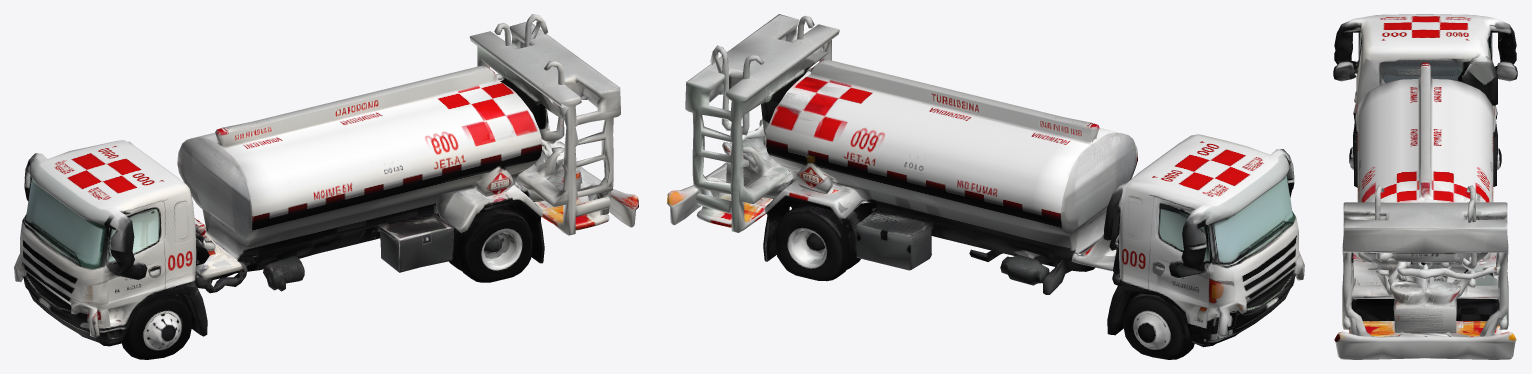
The model's file is Meshy_AI_Jet_A1_Aviation_Fuel__0615234341_texture.obj.
3 renders of one model, left to right at view 1: azimuth 30°, elevation 25°; view 2: azimuth 150°, elevation 25°; view 3: azimuth 270°, elevation 25°, orthographic. The views are drawn at different scales.
Visible parts, largest first — view 1: Meshy_AI_Jet_A1_Aviation_Fuel__0615234341_texture; view 2: Meshy_AI_Jet_A1_Aviation_Fuel__0615234341_texture; view 3: Meshy_AI_Jet_A1_Aviation_Fuel__0615234341_texture.
Boxes of the visible parts, left/top/right/bottom form: Meshy_AI_Jet_A1_Aviation_Fuel__0615234341_texture: left=14, top=14, right=638, bottom=359; Meshy_AI_Jet_A1_Aviation_Fuel__0615234341_texture: left=667, top=14, right=1304, bottom=359; Meshy_AI_Jet_A1_Aviation_Fuel__0615234341_texture: left=1333, top=14, right=1517, bottom=359.
Size of the model in its own units: 1.91 by 0.6419 by 0.6223.
1 material, 1 textured.
